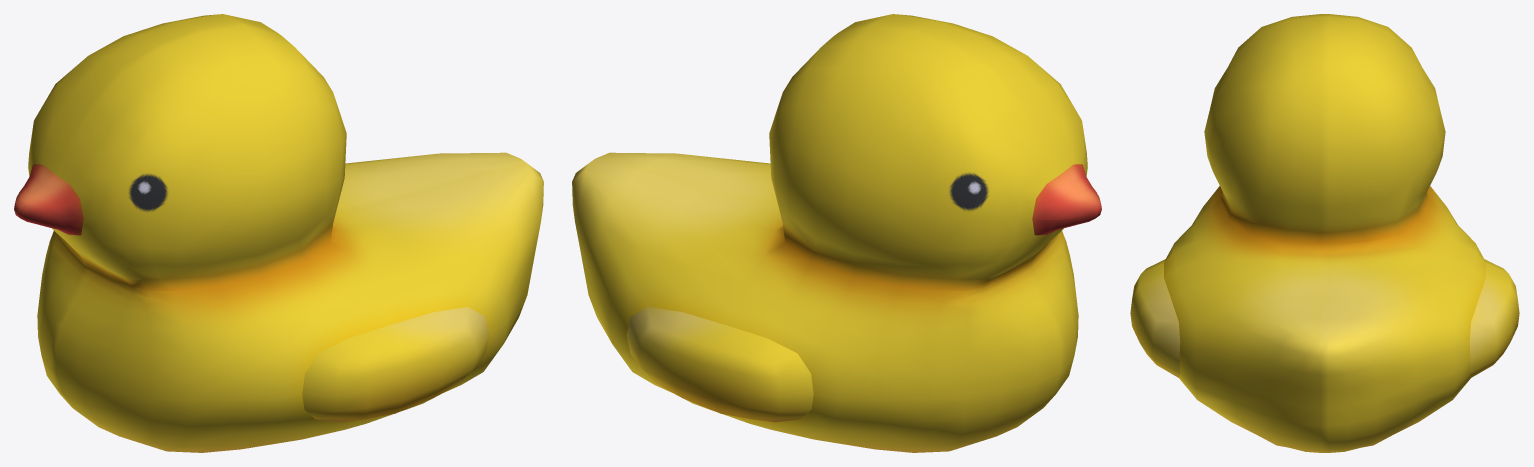
The model's file is Duck.fbx.
3 renders of one model, left to right at view 1: azimuth 30°, elevation 25°; view 2: azimuth 150°, elevation 25°; view 3: azimuth 270°, elevation 25°, orthographic. The views are drawn at different scales.
Parts seen in each view (by area): view 1: Duck; view 2: Duck; view 3: Duck.
Boxes of the visible parts, x1,y1,x2,y2 form: Duck: [14, 14, 543, 452]; Duck: [572, 14, 1101, 452]; Duck: [1130, 14, 1519, 452].
Size of the model in its own units: 39.03 by 28.44 by 29.77.
